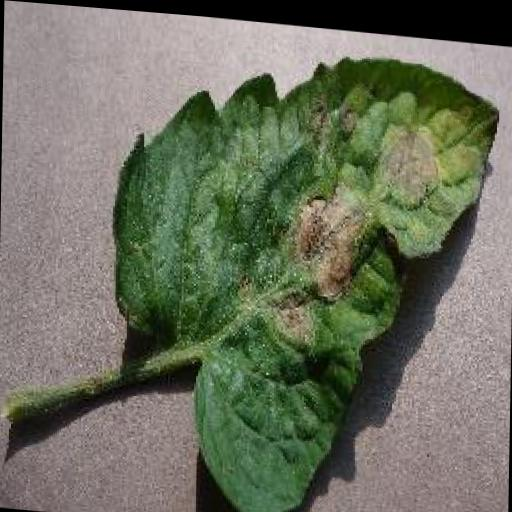Late Blight: (108, 25, 506, 512)
